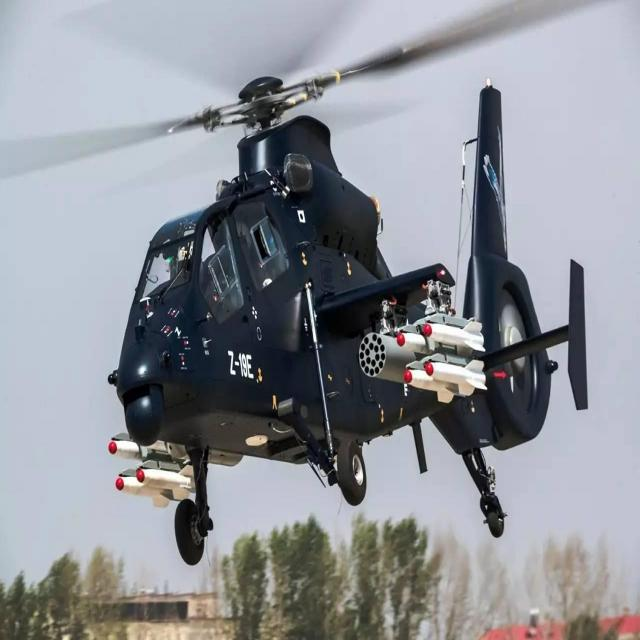MIL_HELO: (0, 19, 635, 578)
